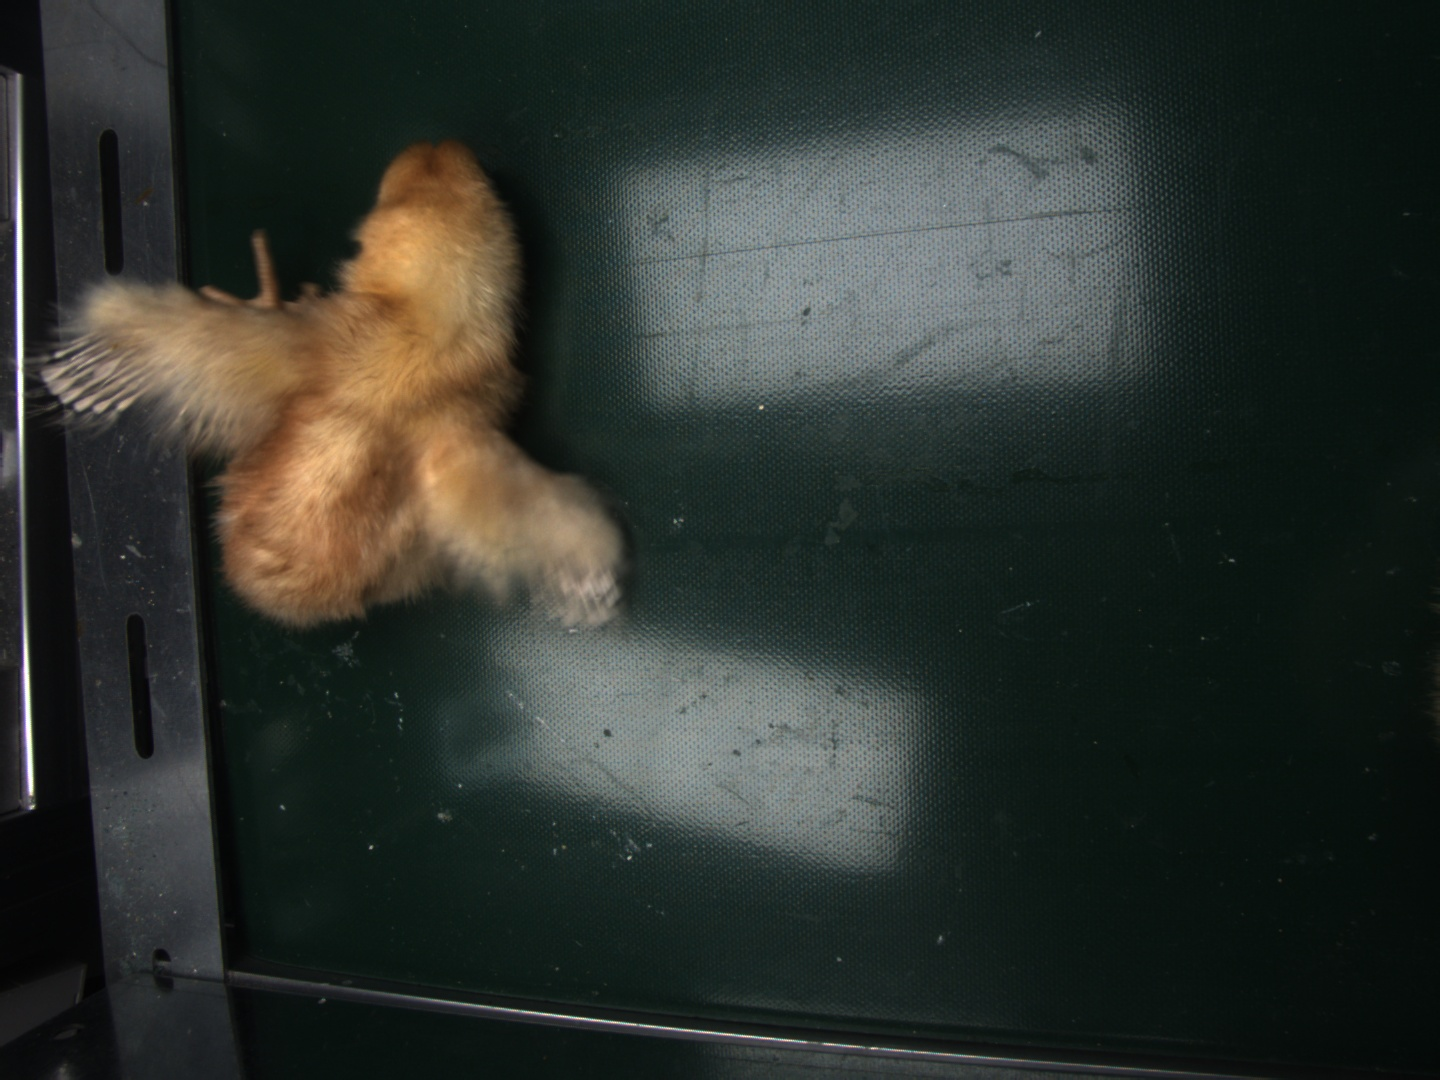female: (44, 334, 150, 417)
